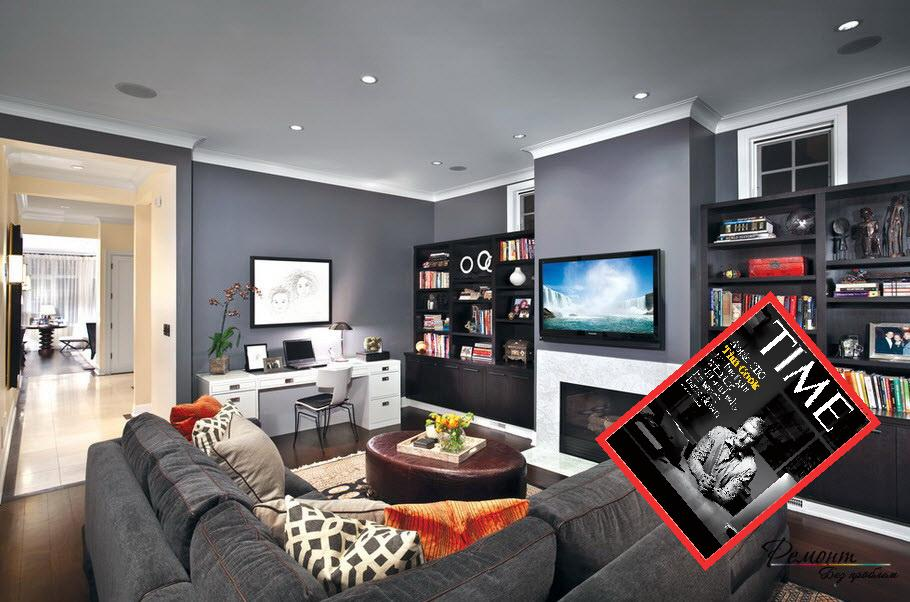times: (588, 291, 883, 574)
